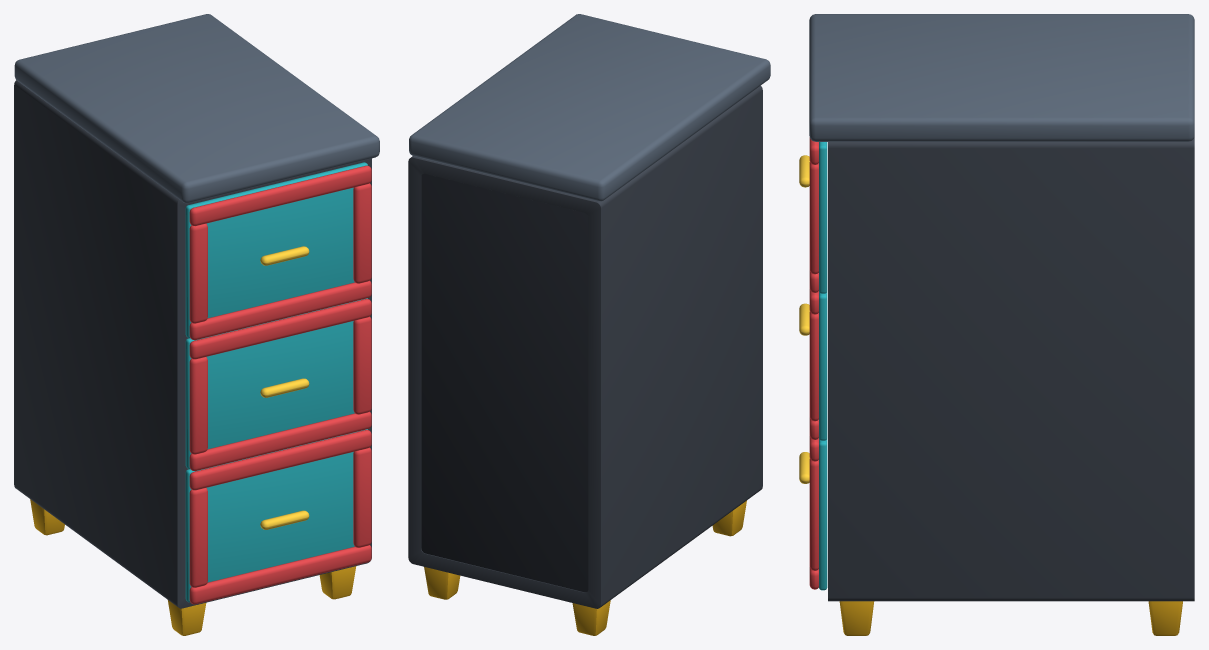
Rendered from gaveteiro_cozinha_3gavetas_grafite.glb.
The picture shows the model from 3 angles, left to right: view 1: azimuth 30°, elevation 25°; view 2: azimuth 150°, elevation 25°; view 3: azimuth 270°, elevation 25°; orthographic projection. The views are drawn at different scales.
Parts seen in each view (by area): view 1: gaveteiro_cozinha_3gavetas_grafite, gaveta_1, gaveta_3, gaveta_2; view 2: gaveteiro_cozinha_3gavetas_grafite; view 3: gaveteiro_cozinha_3gavetas_grafite, gaveta_1, gaveta_3, gaveta_2.
Part boxes in pixels (bbox=[...]): gaveteiro_cozinha_3gavetas_grafite: bbox=[14, 14, 379, 635]; gaveta_1: bbox=[185, 162, 371, 340]; gaveta_3: bbox=[185, 429, 371, 604]; gaveta_2: bbox=[185, 298, 371, 471]; gaveteiro_cozinha_3gavetas_grafite: bbox=[408, 14, 770, 635]; gaveteiro_cozinha_3gavetas_grafite: bbox=[809, 14, 1194, 635]; gaveta_1: bbox=[799, 137, 827, 293]; gaveta_3: bbox=[799, 436, 827, 590]; gaveta_2: bbox=[799, 289, 827, 440].
Bounding box in the file's own units: 0.398 × 0.9 × 0.6147.
1 material, 1 textured.
